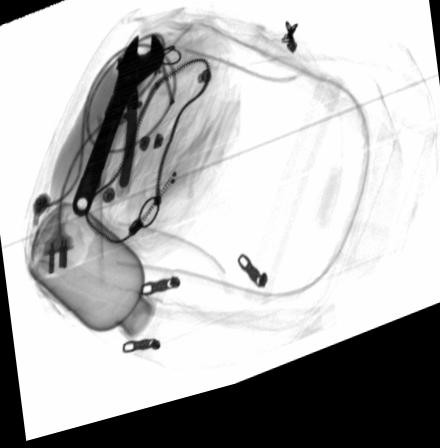Pliers: (91, 60, 139, 208)
Wrench: (72, 42, 164, 224)
